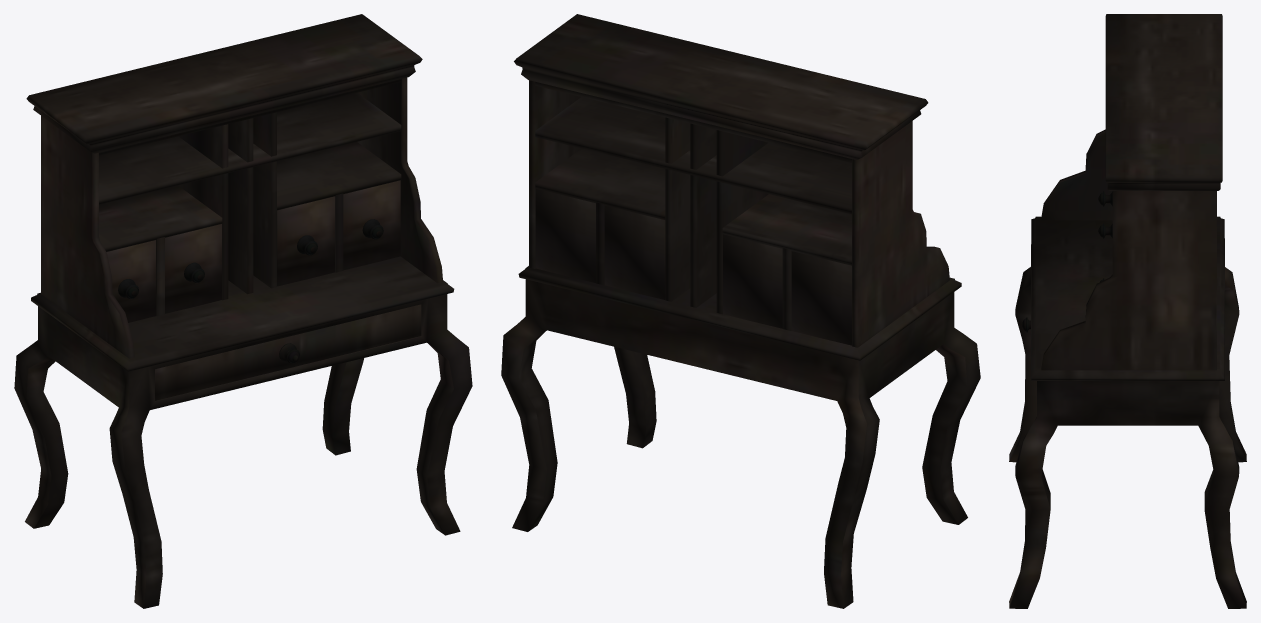
Rendered from s_secreter.glb.
3 renders of one model, left to right at view 1: azimuth 30°, elevation 25°; view 2: azimuth 150°, elevation 25°; view 3: azimuth 270°, elevation 25°, orthographic. The views are drawn at different scales.
Parts seen in each view (by area): view 1: 2ndFlr_Secretary_2ndFlr_Secretary_0; view 2: 2ndFlr_Secretary_2ndFlr_Secretary_0; view 3: 2ndFlr_Secretary_2ndFlr_Secretary_0.
Part boxes in pixels (x1=…): 2ndFlr_Secretary_2ndFlr_Secretary_0: x1=14, y1=14, x2=472, y2=608; 2ndFlr_Secretary_2ndFlr_Secretary_0: x1=501, y1=14, x2=980, y2=608; 2ndFlr_Secretary_2ndFlr_Secretary_0: x1=1009, y1=14, x2=1246, y2=608.
Size of the model in its own units: 1.08 by 1.3 by 0.6407.
Materials: 1 (1 with a texture image).
